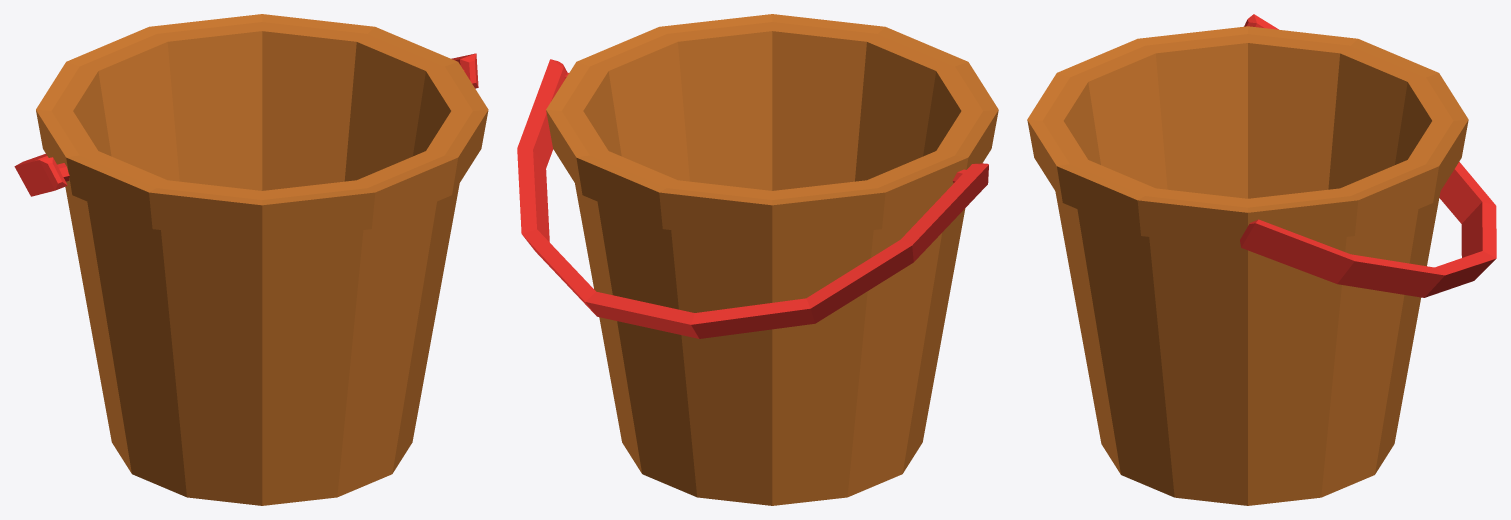
The model's file is Bucket_01.fbx.
3 renders of one model, left to right at view 1: azimuth 30°, elevation 25°; view 2: azimuth 150°, elevation 25°; view 3: azimuth 270°, elevation 25°, orthographic. The views are drawn at different scales.
Parts seen in each view (by area): view 1: Bucket_01; view 2: Bucket_01; view 3: Bucket_01.
Boxes of the visible parts, x1=… form: Bucket_01: x1=14, y1=14, x2=488, y2=505; Bucket_01: x1=517, y1=14, x2=998, y2=505; Bucket_01: x1=1027, y1=14, x2=1496, y2=505.
Bounding box in the file's own units: 17.99 × 13.1 × 17.13.
